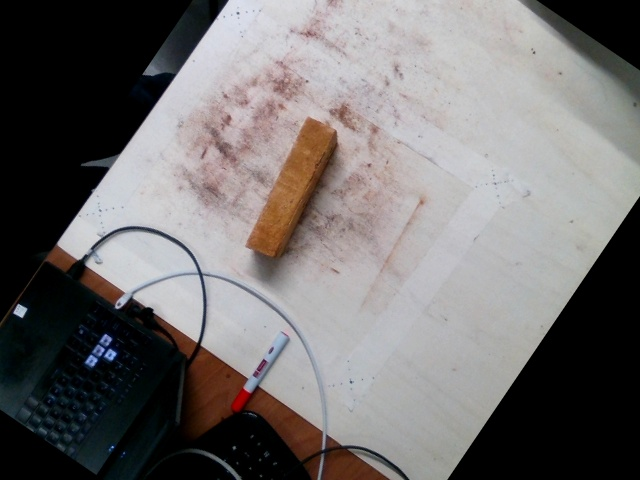brick-side: (249, 117, 332, 255)
